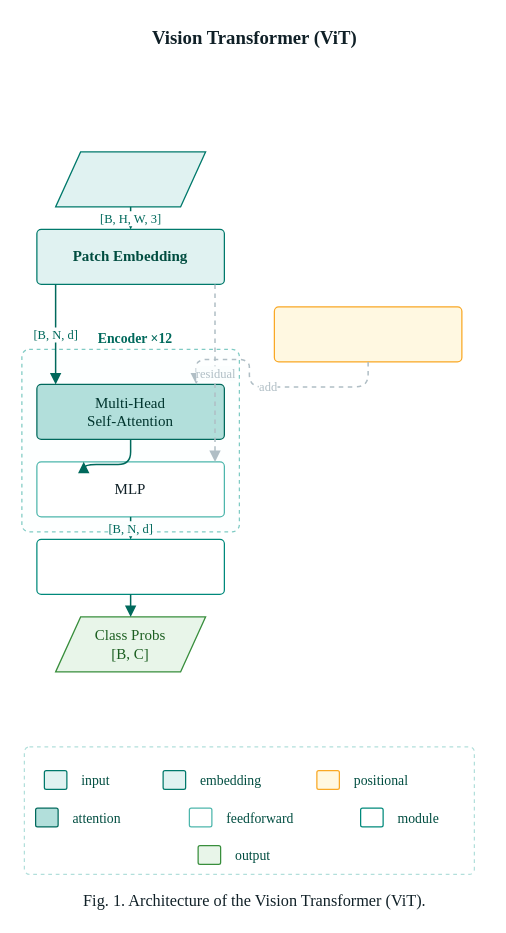
Some shapes in this 506 by 933 pixel diagram are drawn without their labels. Each missing label, with the box of its shape:
Classification Head: (36, 538, 224, 594)
Image [H, W, 3]: (54, 151, 206, 207)
Pos. Embedding: (273, 306, 462, 362)
